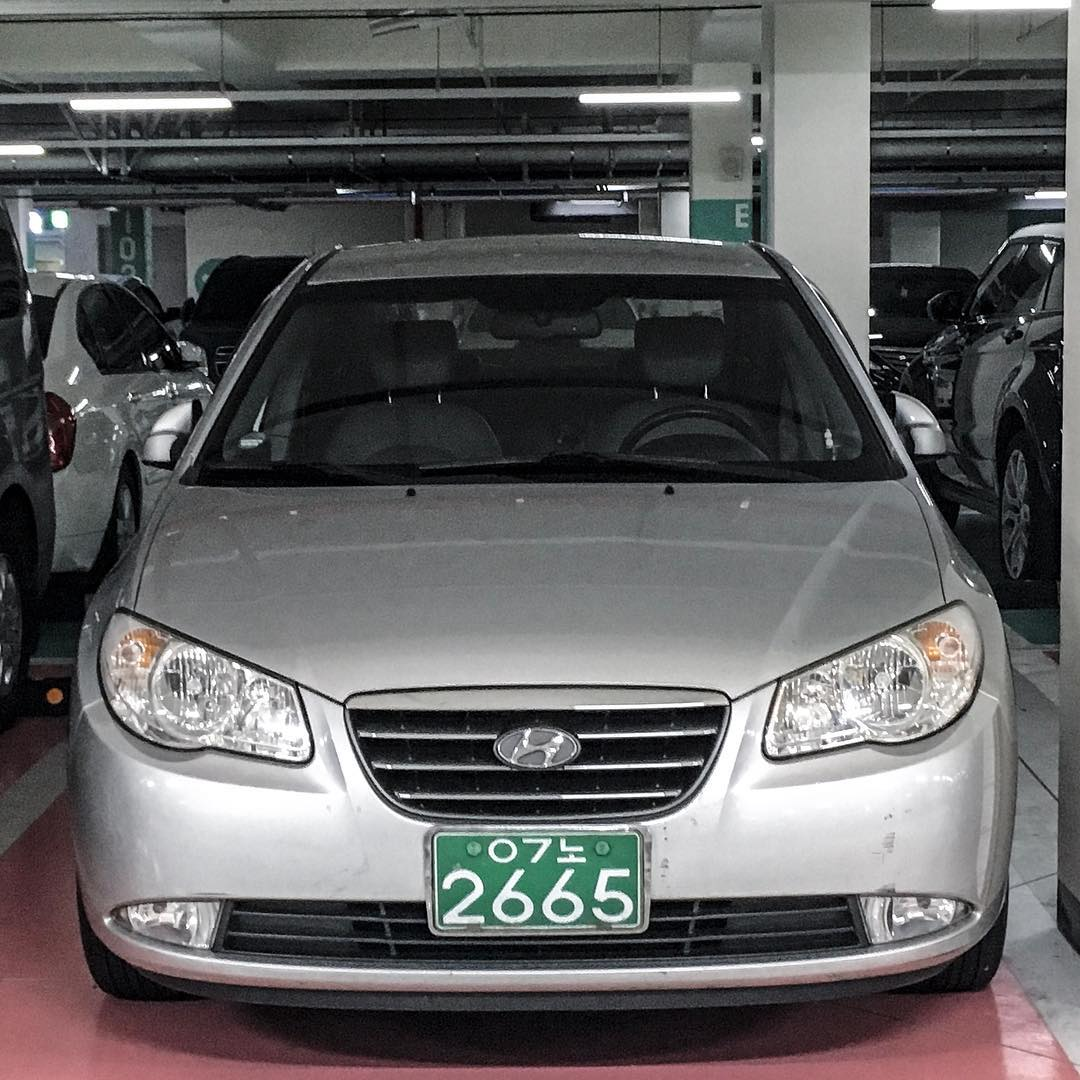plate: (436, 834, 640, 928)
